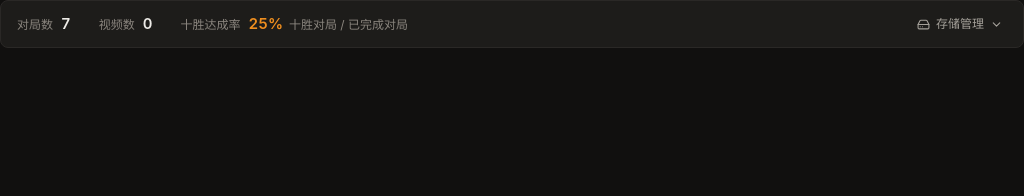
history overview › shows summary totals and keeps cleanup controls inaccessible until expanded
Check: the element showing "对局数 7 视频数 0 十胜达成率 25% 十胜对局 / 已完成对局" is shown, box [17,14,408,33]
Click the button "存储管理": (960, 24) [907,11,1013,37]
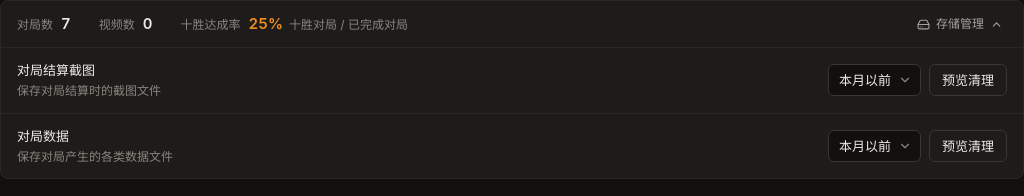
Check: the number of dropdowns is 2, box [828,64,921,96]; [828,130,921,162]
Check: the button "存储管理" is expanded, box [907,11,1013,37]
